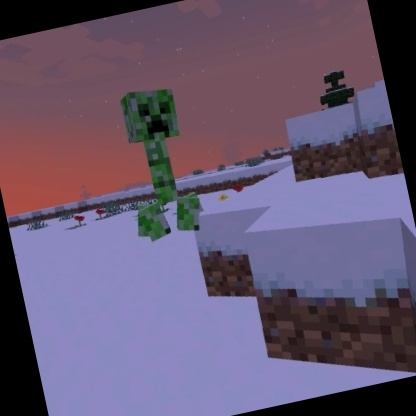creeper: (105, 79, 211, 248)
